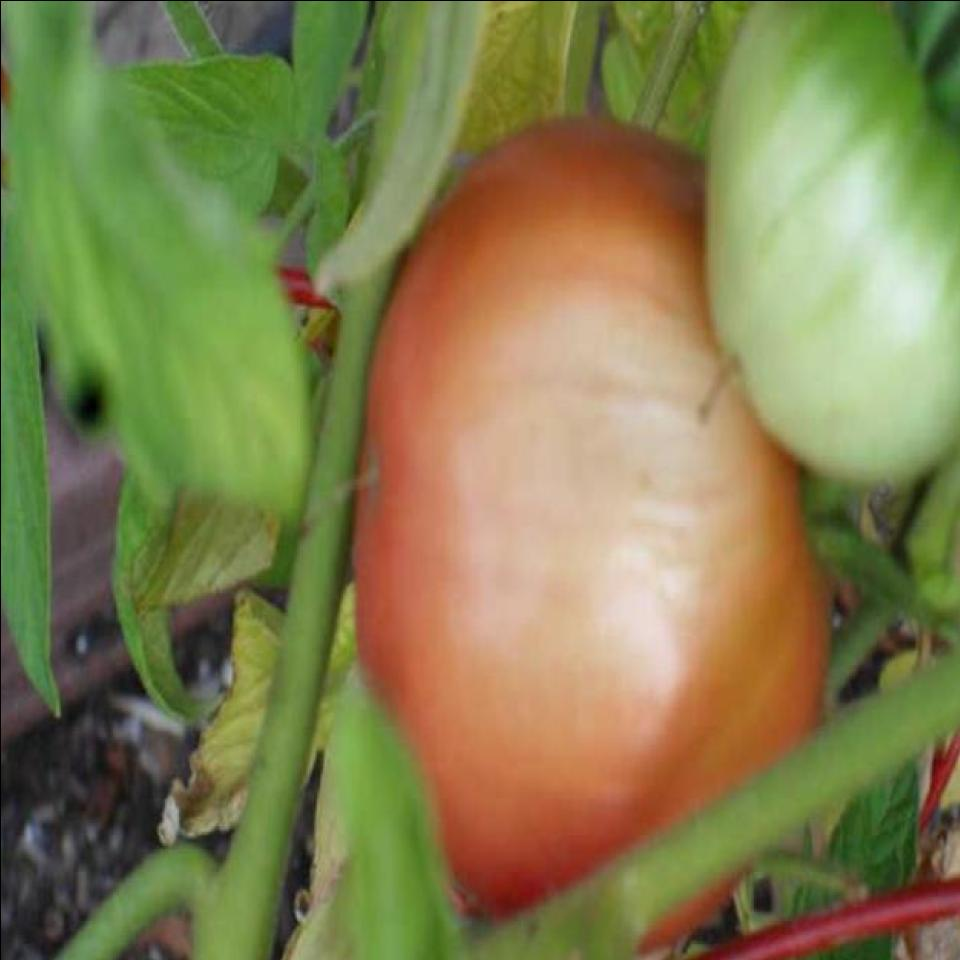Sunscald: (415, 232, 736, 795), (748, 64, 946, 404)
